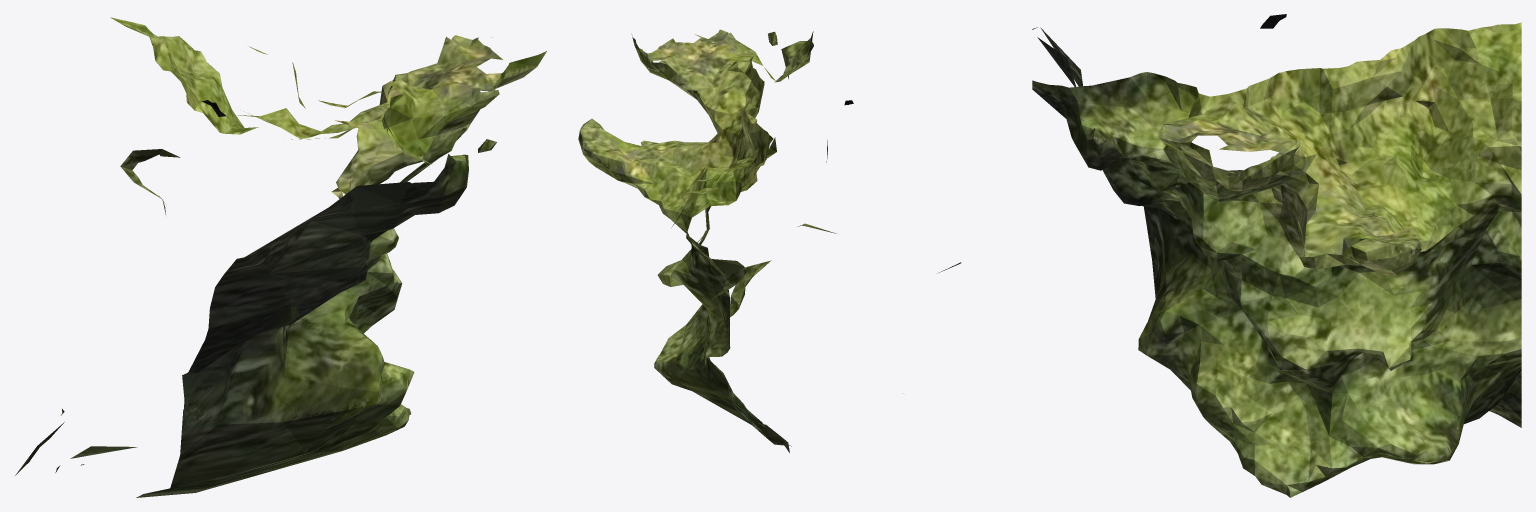
The picture shows the model from 3 angles, left to right: view 1: azimuth 30°, elevation 25°; view 2: azimuth 150°, elevation 25°; view 3: azimuth 270°, elevation 25°; orthographic projection. The views are drawn at different scales.
Bounding box in the file's own units: 2.9 × 2.95 × 2.95.
5 materials, 5 textured.
